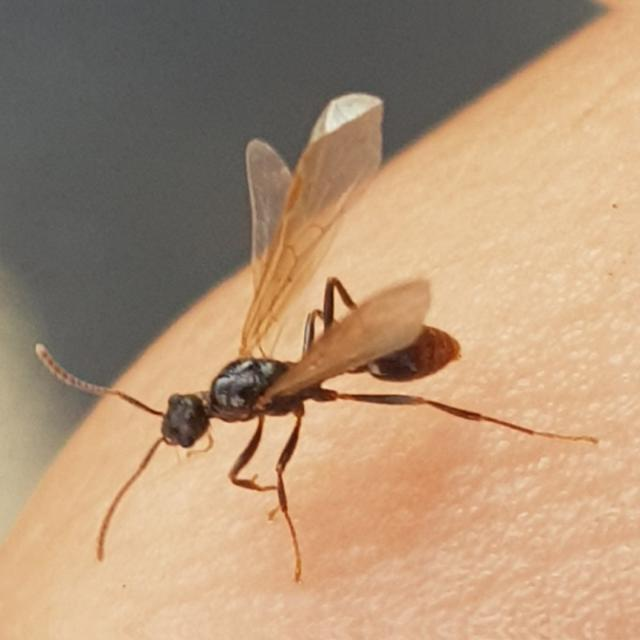Myrmica: (80, 192, 454, 554)
